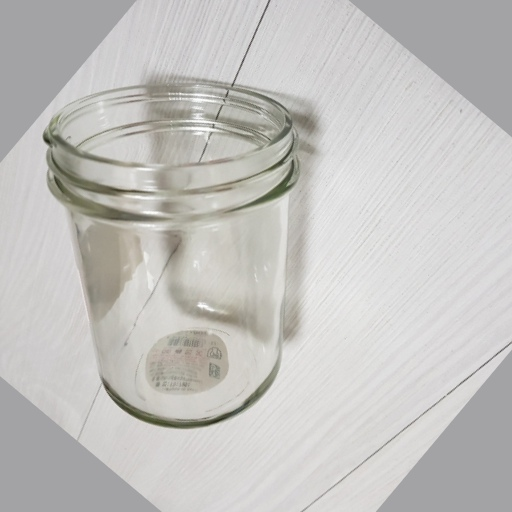Glass_5: (37, 81, 304, 431)
